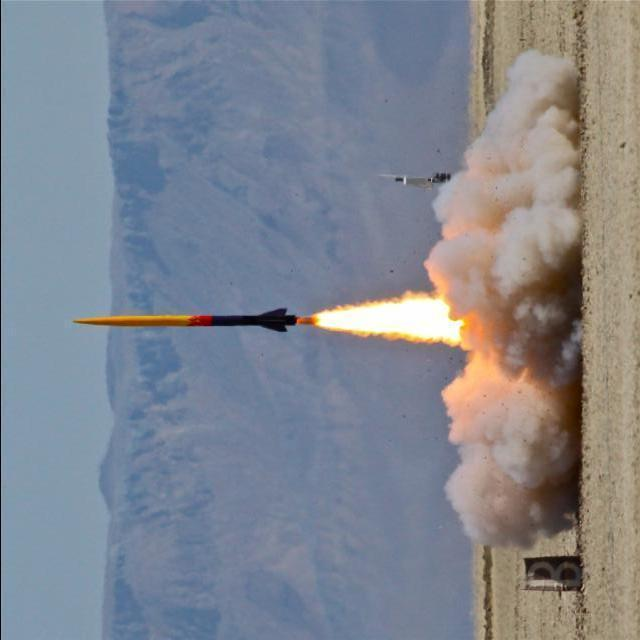missile: (68, 303, 316, 335)
